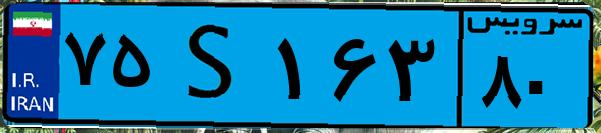0: (525, 38, 570, 115)
1: (270, 28, 330, 110)
3: (385, 28, 445, 110)
5: (110, 28, 158, 98)
6: (330, 28, 385, 110)
7: (57, 26, 110, 100)
8: (475, 38, 525, 113)
S: (158, 12, 270, 120)
